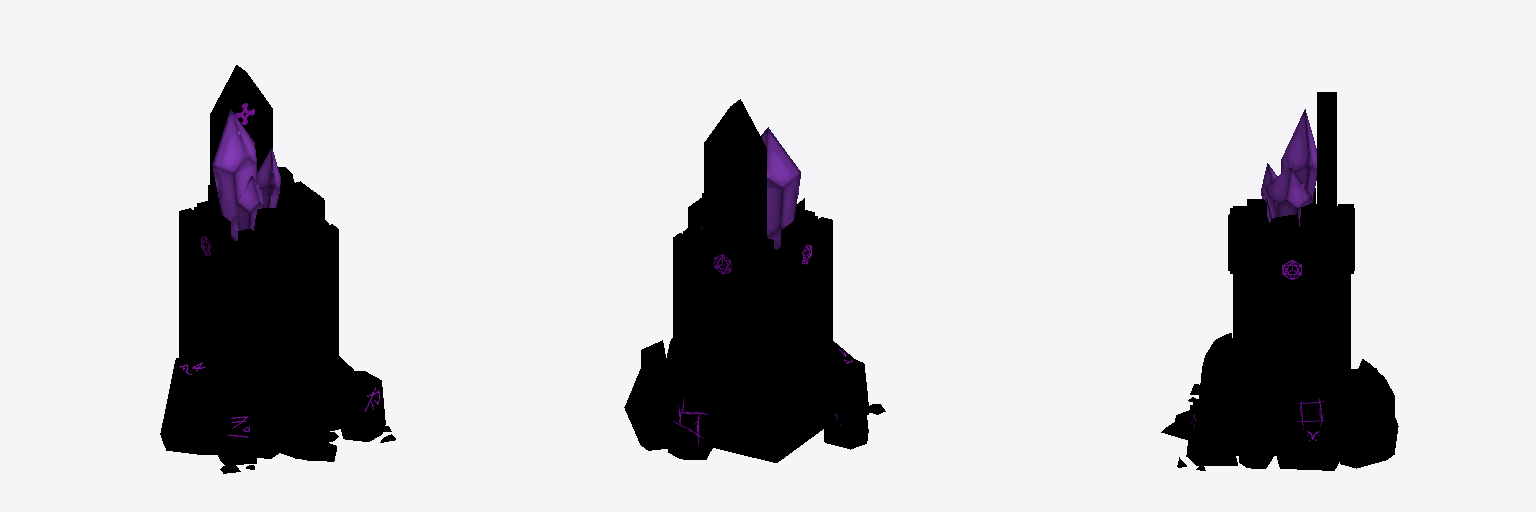
3 views of the same model, side by side, from view 1: azimuth 30°, elevation 25°; view 2: azimuth 150°, elevation 25°; view 3: azimuth 270°, elevation 25° (orthographic).
Visible parts, largest first — view 1: Columns_LP_Cube.002, Rocks_1_LP_Cube.025, Rocks_2_LP_Cube.019, Wall_high_LP_Cube.014, Crystal_1_LP_Circle, Stair_LP_Cube.010, Romb_broken_LP_Cube.006, Wall_outer_1_LP.002_Cube.017, Rocks_above_LP_Cube.012, Romb_1_LP.002_Cube.200, Floor_LP_Cube.009, Wall_inner_1_LP_Cube.031 (+2 smaller); view 2: Columns_LP_Cube.002, Wall_high_LP_Cube.014, Wall_outer_1_LP.001_Cube.011, Rocks_2_LP_Cube.019, Rocks_1_LP_Cube.025, Rocks_3_LP_Cube.020, Wall_outer_1_LP.002_Cube.017, Crystal_1_LP_Circle, Platform_LP_Cube.007, Romb_1_LP.001_Cube.199, Romb_1_LP.002_Cube.200; view 3: Columns_LP_Cube.002, Rocks_2_LP_Cube.019, Rocks_3_LP_Cube.020, Wall_outer_1_LP_Cube.008, Rocks_1_LP_Cube.025, Wall_high_LP_Cube.014, Romb_1_LP_Cube.043, Rocks_above_LP_Cube.012, Crystal_1_LP_Circle, Crystal_2_LP_Circle.001, Romb_1_LP.001_Cube.199, Stair_LP_Cube.010 (+1 smaller).
Boxes of the visible parts, x1,y1,x2,y2 form: Columns_LP_Cube.002: [179, 201, 338, 411]; Rocks_1_LP_Cube.025: [160, 356, 395, 473]; Rocks_2_LP_Cube.019: [217, 371, 385, 464]; Wall_high_LP_Cube.014: [210, 65, 272, 211]; Crystal_1_LP_Circle: [212, 109, 256, 240]; Stair_LP_Cube.010: [275, 409, 336, 461]; Romb_broken_LP_Cube.006: [261, 215, 310, 285]; Wall_outer_1_LP.002_Cube.017: [197, 259, 219, 402]; Rocks_above_LP_Cube.012: [254, 167, 312, 243]; Romb_1_LP.002_Cube.200: [194, 204, 230, 275]; Floor_LP_Cube.009: [267, 371, 308, 416]; Wall_inner_1_LP_Cube.031: [280, 280, 291, 378]; Columns_LP_Cube.002: [673, 209, 832, 438]; Wall_high_LP_Cube.014: [704, 99, 766, 249]; Wall_outer_1_LP.001_Cube.011: [703, 274, 744, 430]; Rocks_2_LP_Cube.019: [666, 338, 868, 459]; Rocks_1_LP_Cube.025: [823, 341, 885, 449]; Rocks_3_LP_Cube.020: [624, 340, 672, 450]; Wall_outer_1_LP.002_Cube.017: [792, 268, 814, 424]; Crystal_1_LP_Circle: [761, 127, 800, 249]; Platform_LP_Cube.007: [713, 404, 823, 462]; Romb_1_LP.001_Cube.199: [702, 224, 750, 294]; Romb_1_LP.002_Cube.200: [781, 213, 818, 284]; Columns_LP_Cube.002: [1233, 206, 1350, 431]; Rocks_2_LP_Cube.019: [1186, 333, 1394, 465]; Rocks_3_LP_Cube.020: [1338, 368, 1398, 468]; Wall_outer_1_LP_Cube.008: [1268, 283, 1315, 431]; Rocks_1_LP_Cube.025: [1177, 370, 1339, 470]; Wall_high_LP_Cube.014: [1317, 92, 1336, 246]; Romb_1_LP_Cube.043: [1268, 234, 1315, 299]; Rocks_above_LP_Cube.012: [1246, 199, 1317, 251]; Crystal_1_LP_Circle: [1281, 109, 1316, 202]; Crystal_2_LP_Circle.001: [1264, 167, 1311, 226]; Romb_1_LP.001_Cube.199: [1338, 204, 1354, 273]; Stair_LP_Cube.010: [1161, 394, 1232, 439].
Size of the model in its own units: 5.18 by 8.48 by 5.41.
Materials: 1 (1 with a texture image).